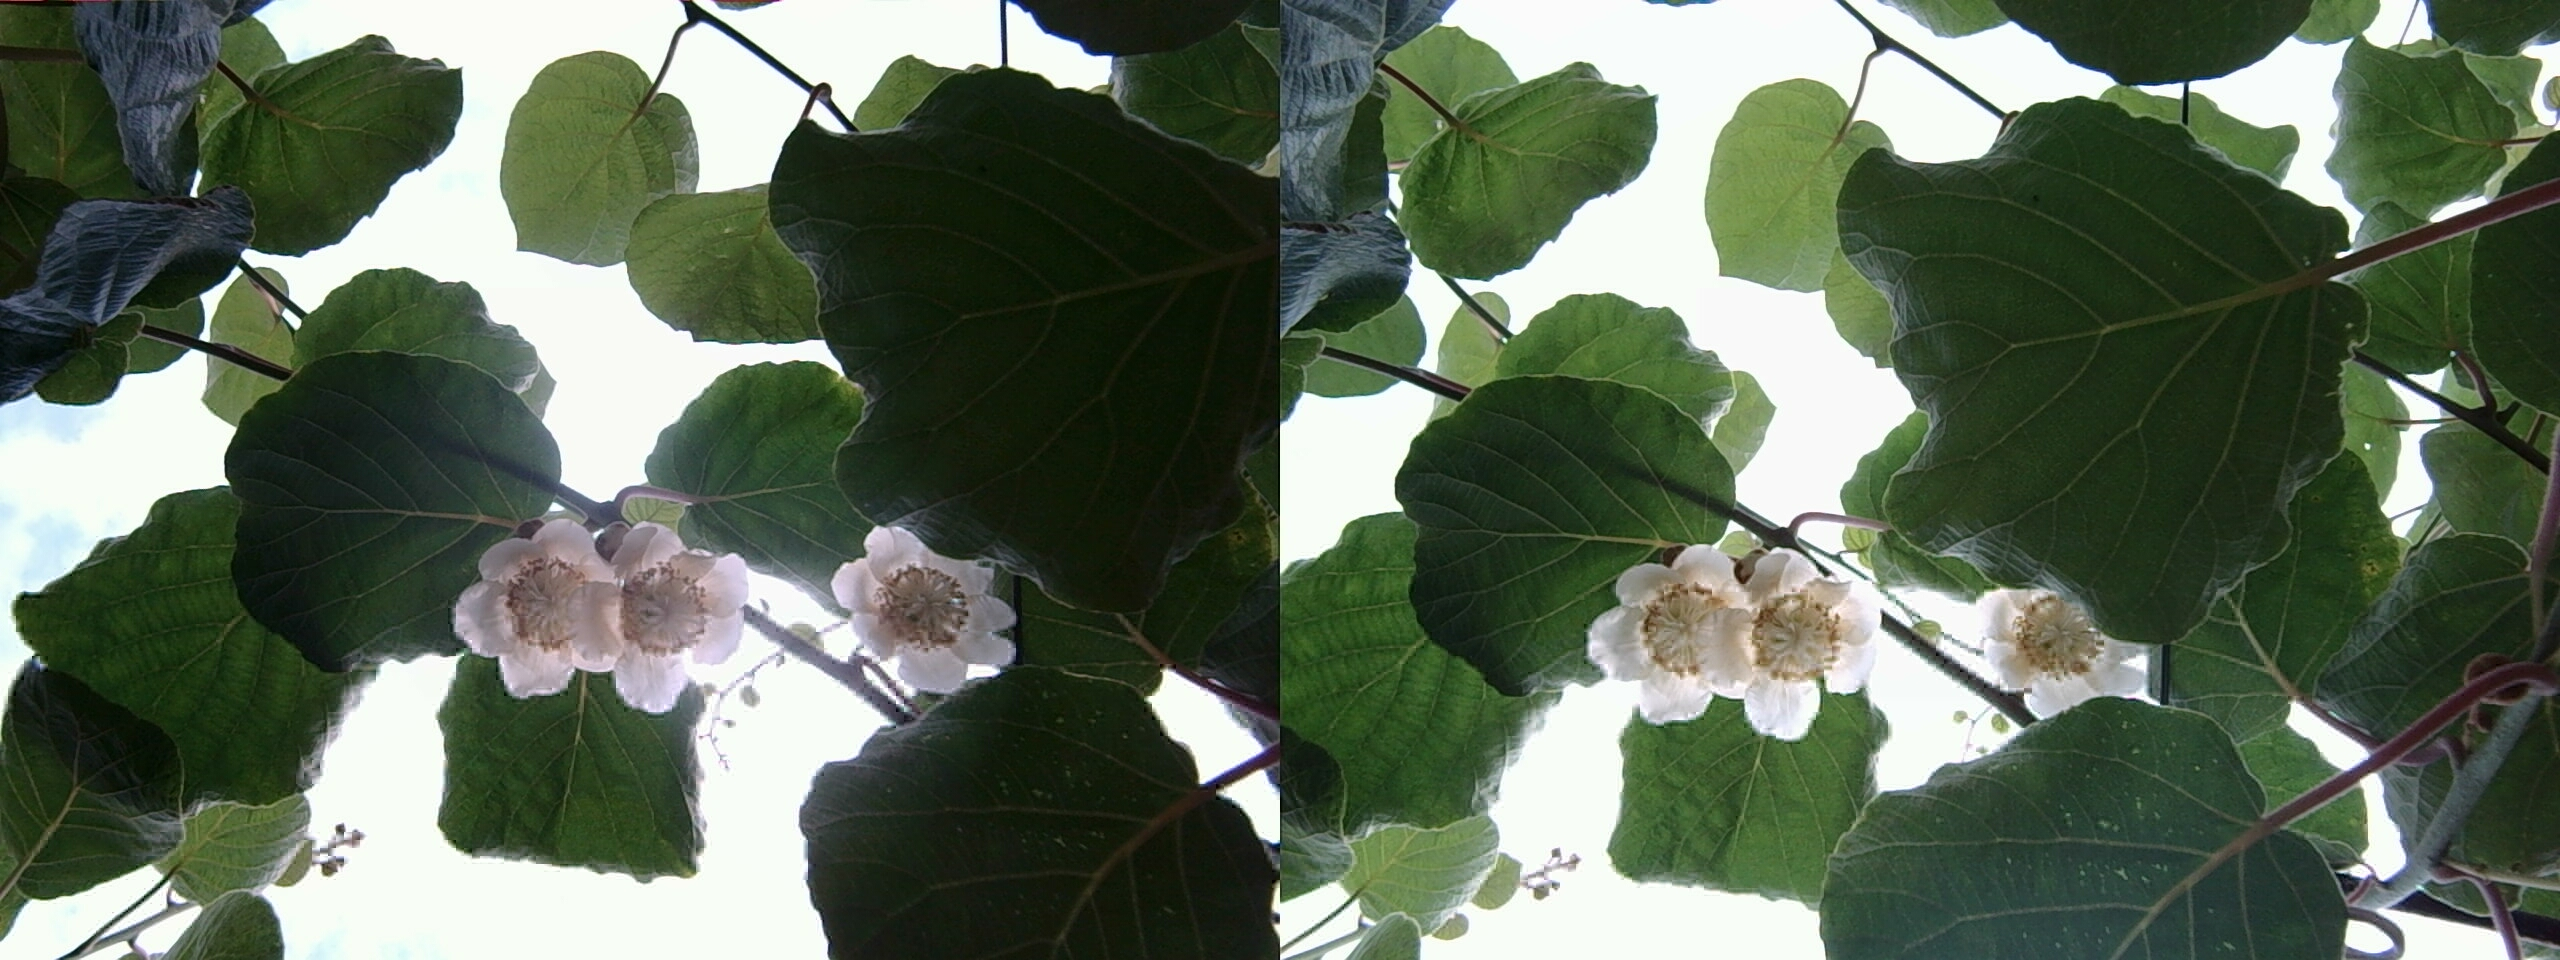flower: (1584, 537, 1760, 725), (580, 513, 753, 702), (446, 513, 619, 691), (826, 519, 1007, 689), (1713, 553, 1876, 730), (1953, 580, 2134, 709)
